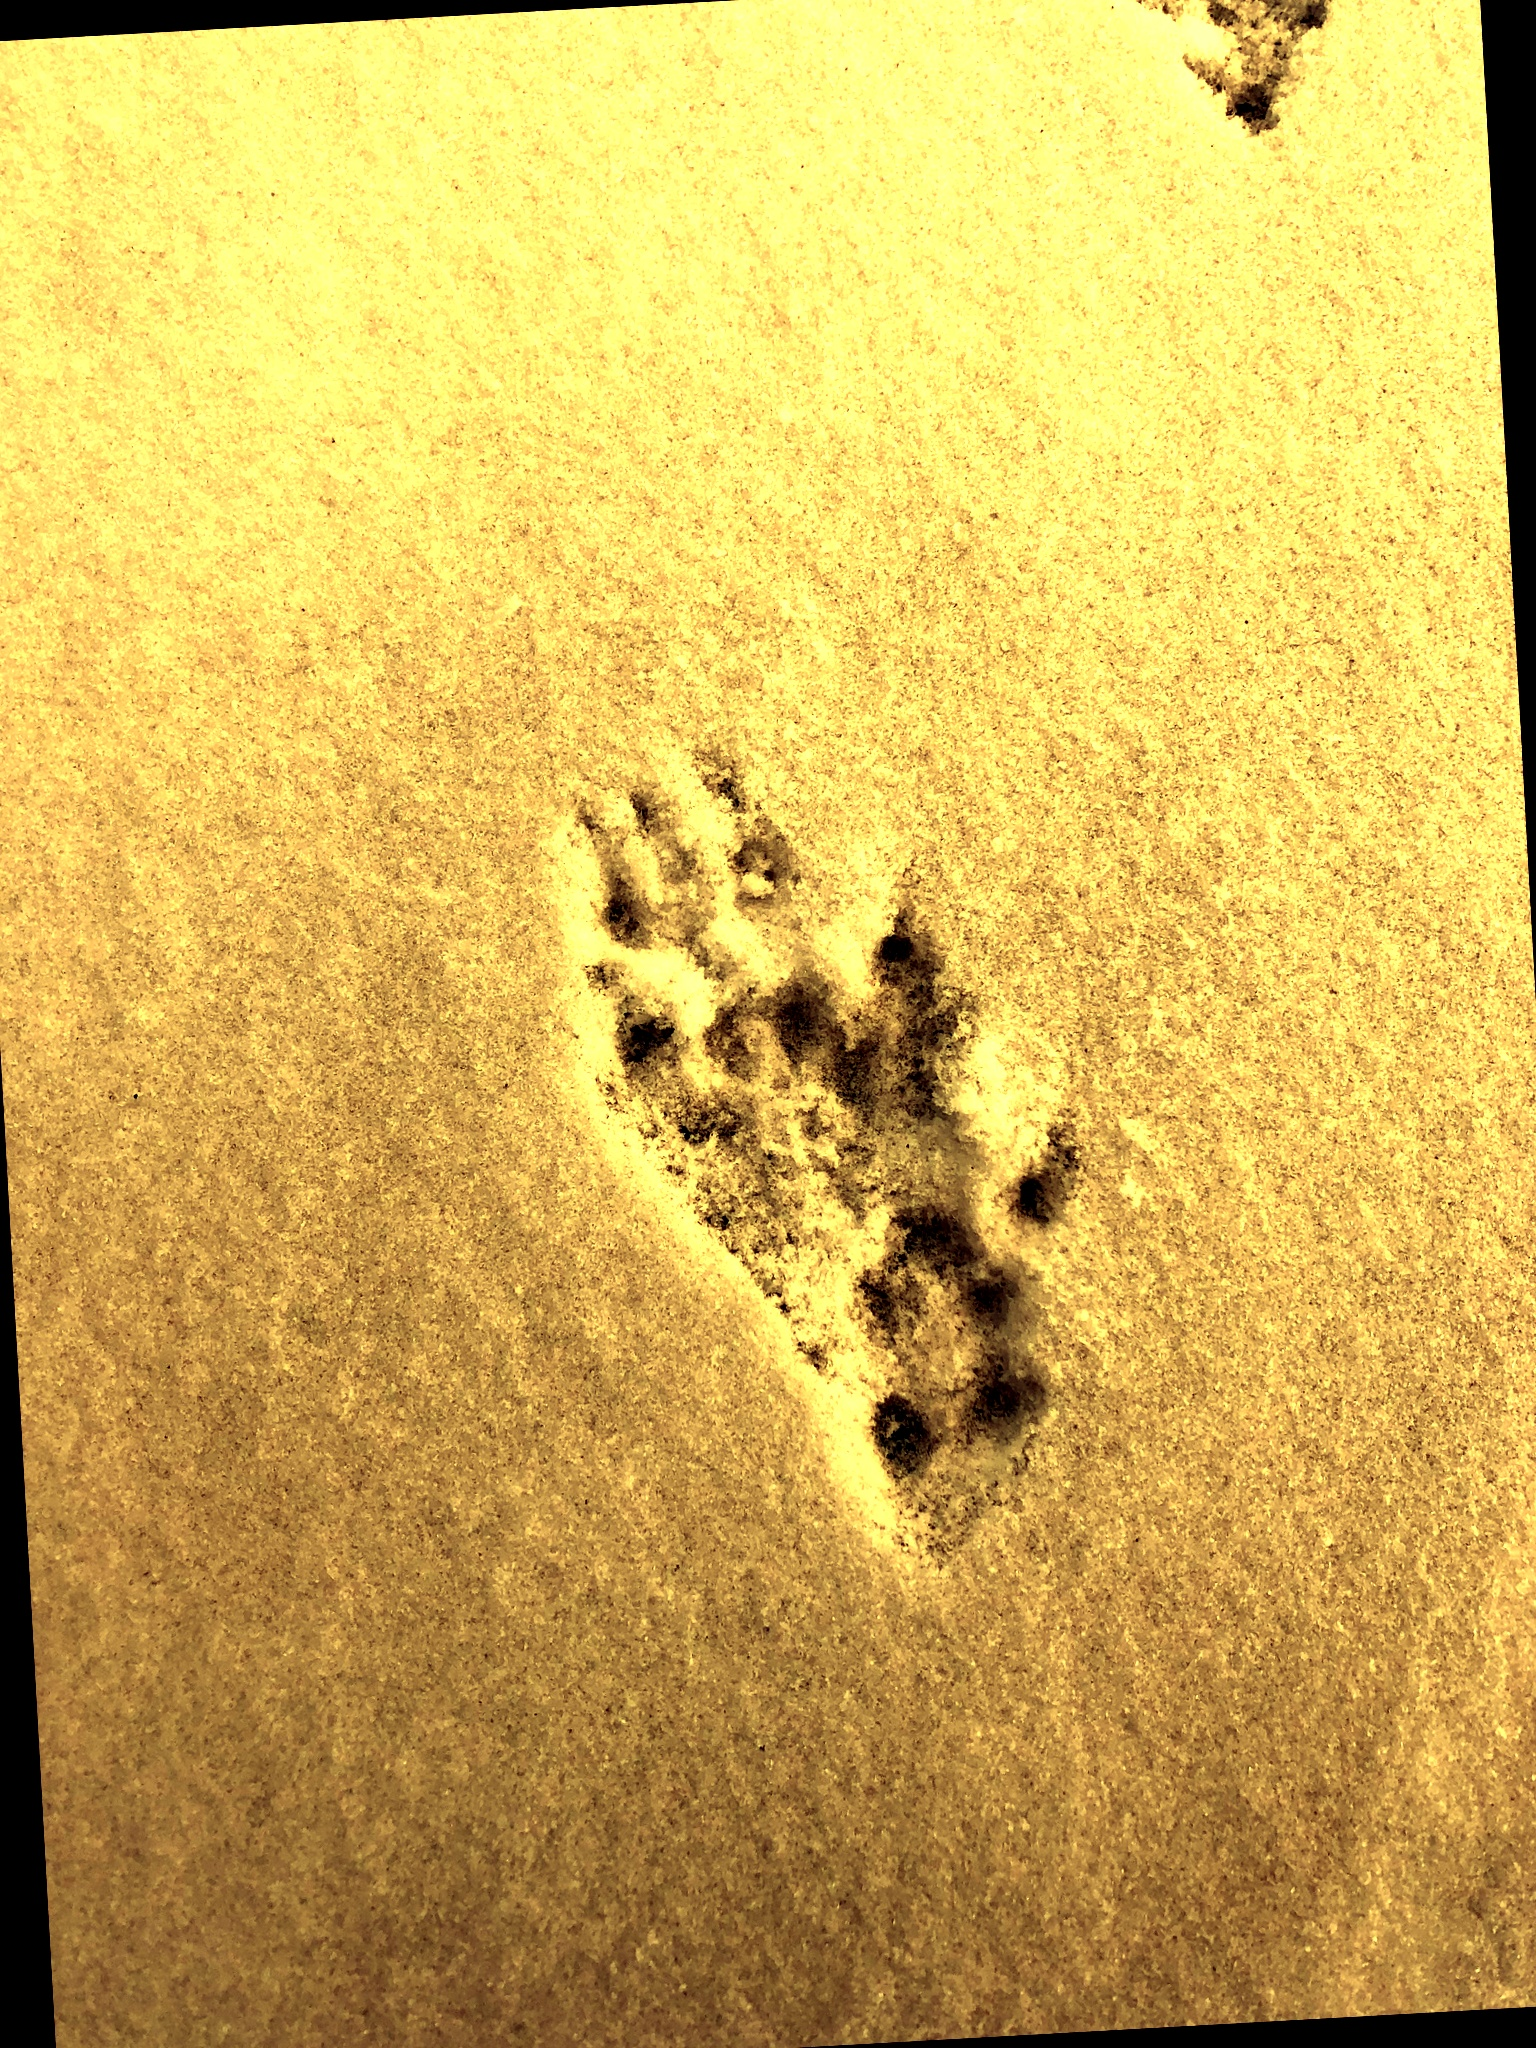loup: (444, 476, 1430, 1445)
